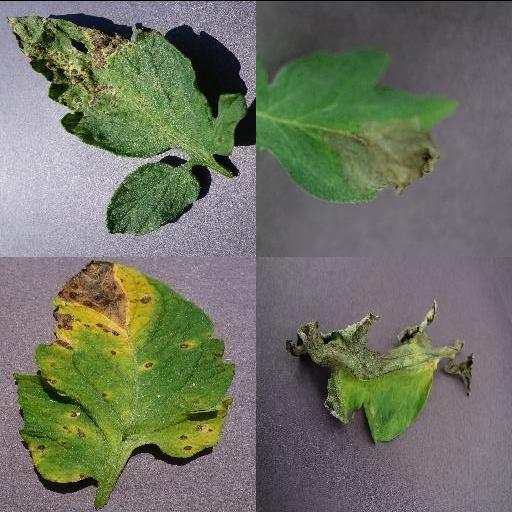Late Blight: (256, 44, 459, 200), (285, 303, 473, 445)
Septoria: (15, 261, 237, 485), (4, 15, 248, 159)
